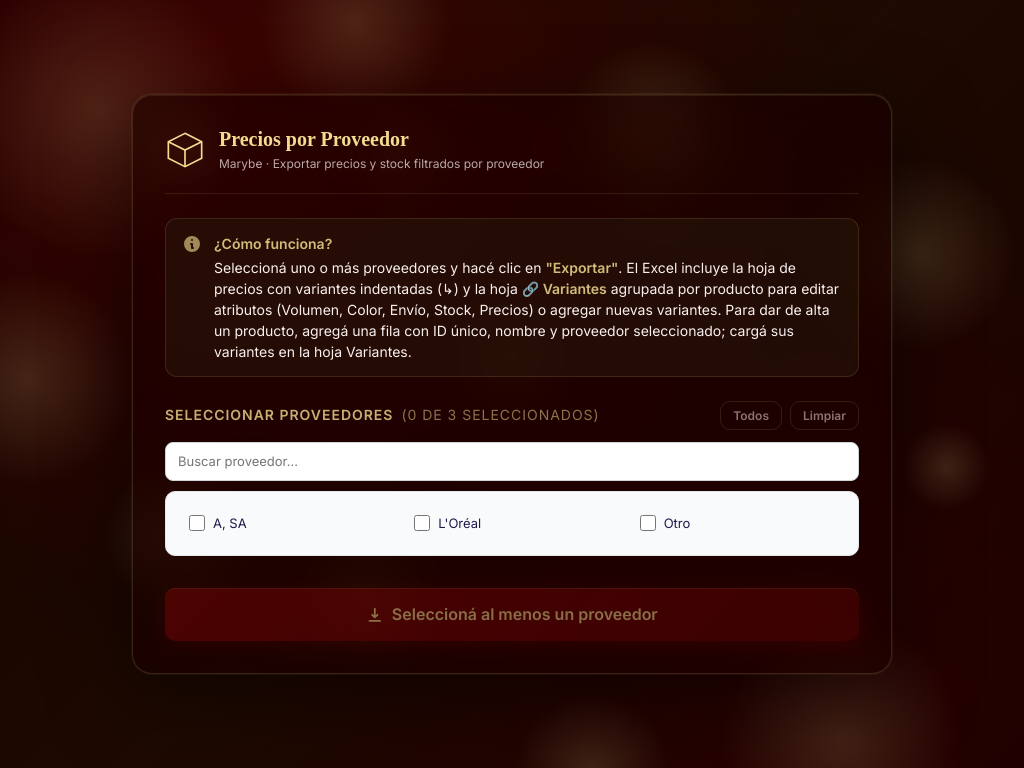
Test case: filtra proveedores por búsqueda en exportación y borrado sin perder selecciones previas
Later steps or results of the test are not shown.
Click the checkbox labelled "A, SA". click: click(197, 523)
box: [189,515,205,531]
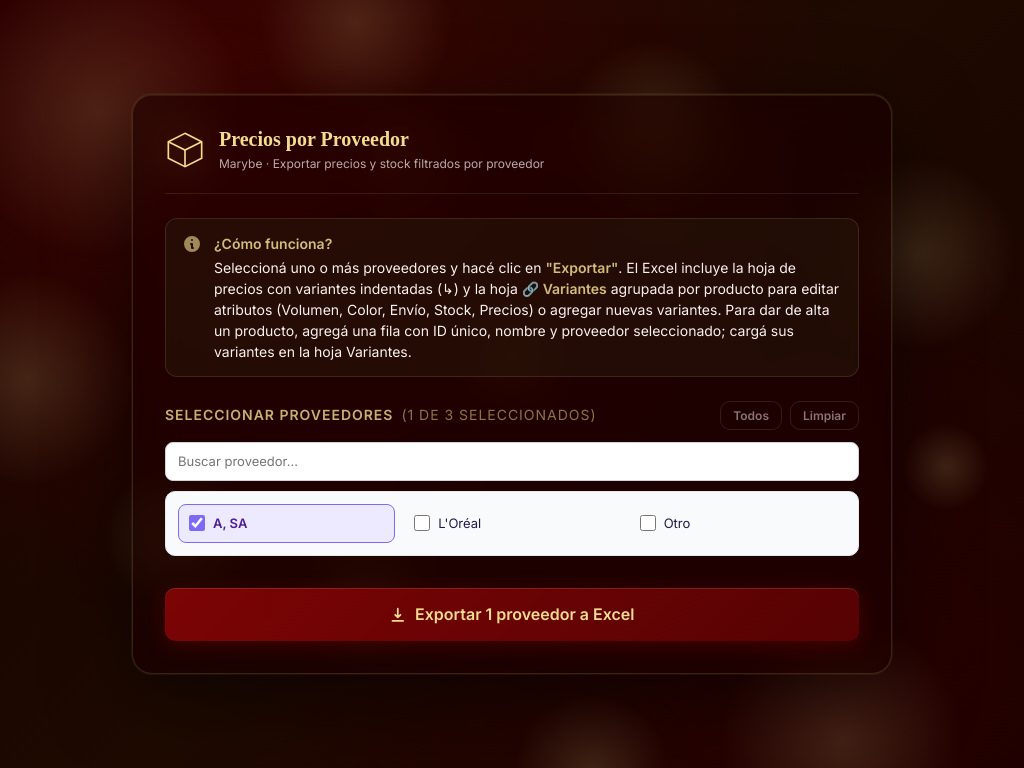
Type "loreal" into the search field labelled "Buscar proveedor". click: (512, 461)
box: [165,442,859,481]
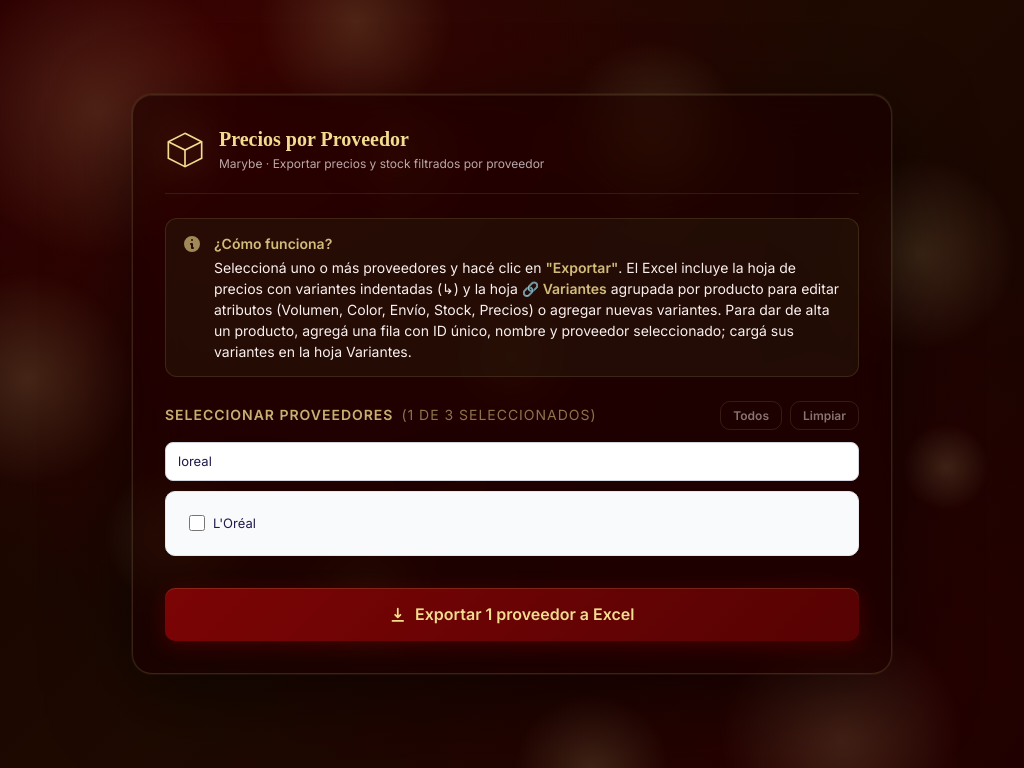
Expected: the checkbox labelled "L'Oréal" is shown, [189,515,205,531]
Result: the text "A, SA" is gone
Result: the text "Otro" is gone
Click the button "Todos". click: click(751, 415)
box: [720,401,782,430]
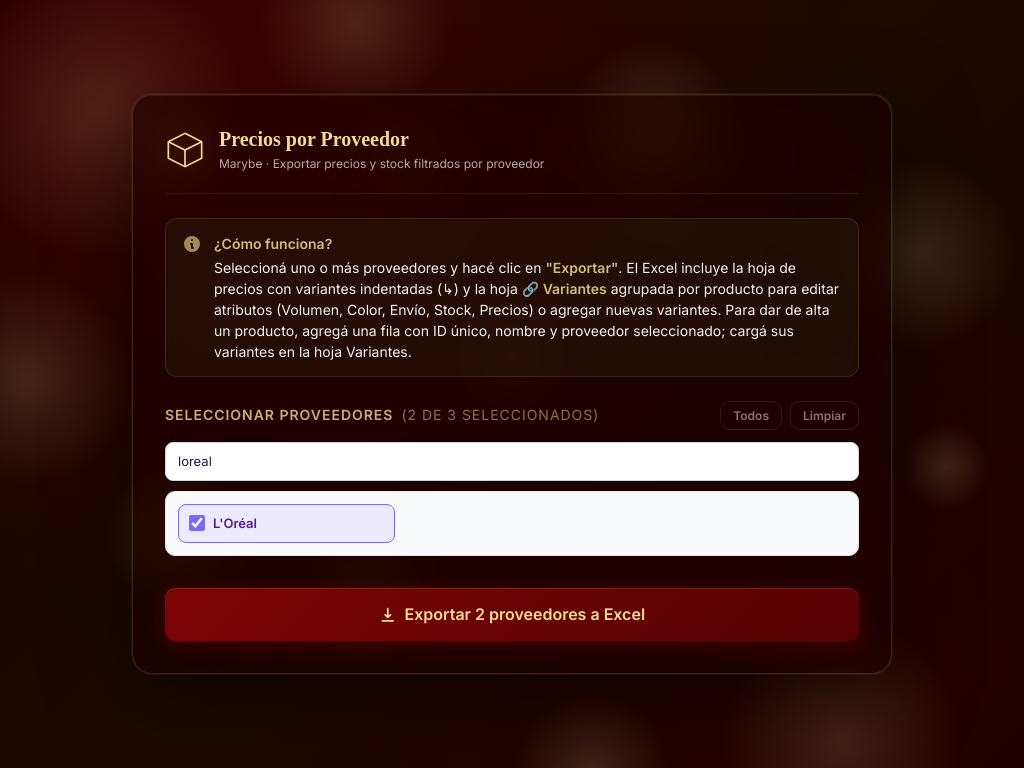
Clear the search field named "Buscar proveedor". click: (512, 461)
box: [165,442,859,481]
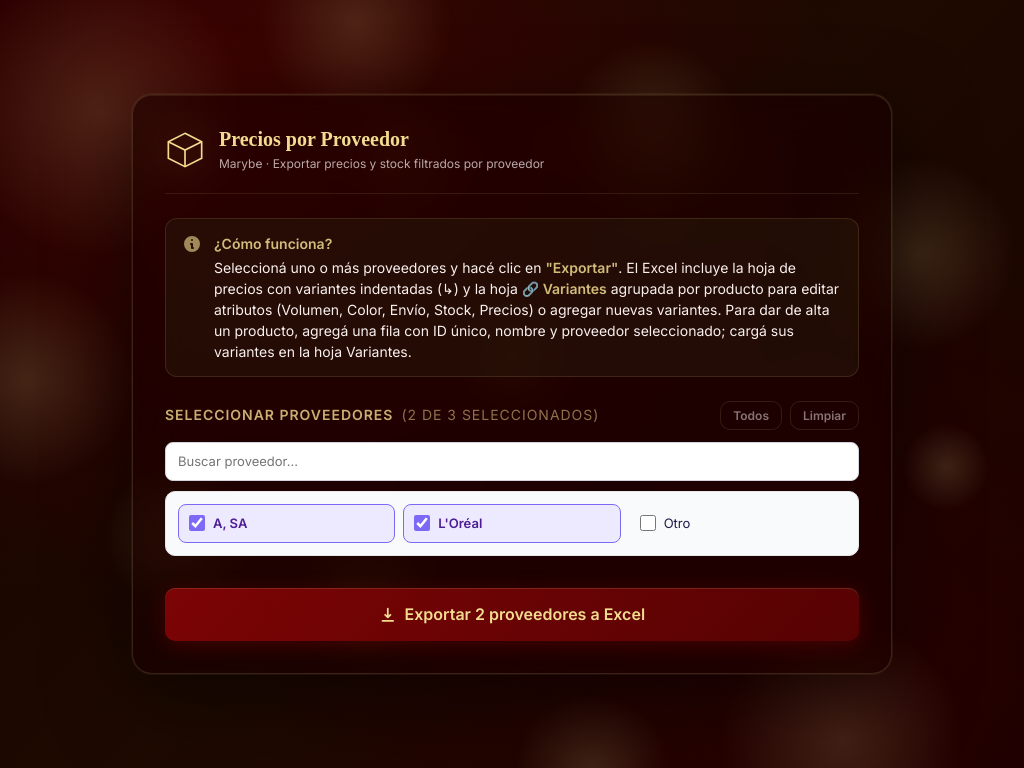
Expected: the checkbox labelled "A, SA" is checked, [189,515,205,531]
Result: the checkbox labelled "L'Oréal" is checked at [414,515,430,531]
Result: the checkbox labelled "Otro" is not checked at [640,515,656,531]
